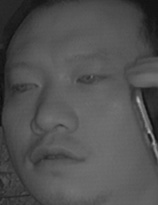eye: (10, 76, 40, 97), (75, 68, 104, 89)
mouth: (26, 140, 85, 172)
